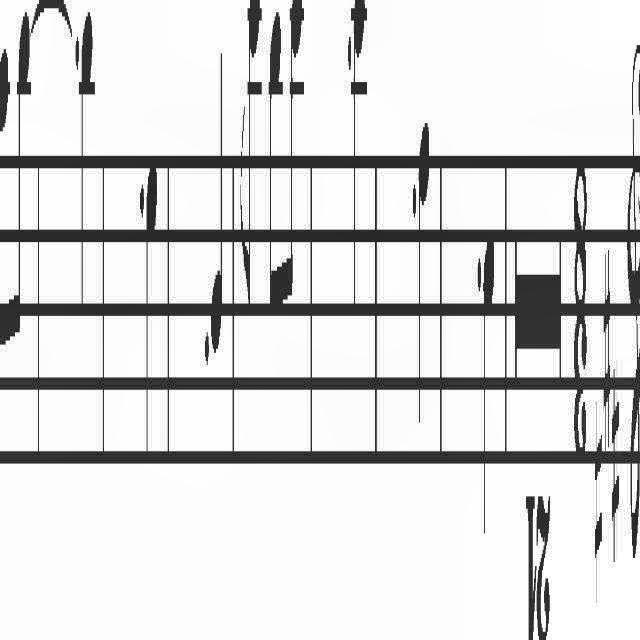Bass-clef: (627, 33, 640, 571), (639, 33, 640, 571)
Diez: (612, 343, 620, 569), (604, 244, 612, 458), (594, 404, 602, 604)
Eighth-note: (240, 0, 264, 308), (15, 0, 30, 348), (268, 6, 284, 320), (288, 0, 304, 304), (0, 32, 10, 370)
Quarter-note: (210, 36, 226, 358), (353, 0, 367, 332), (417, 118, 431, 434), (80, 6, 94, 318), (145, 156, 159, 464), (482, 228, 494, 552)
